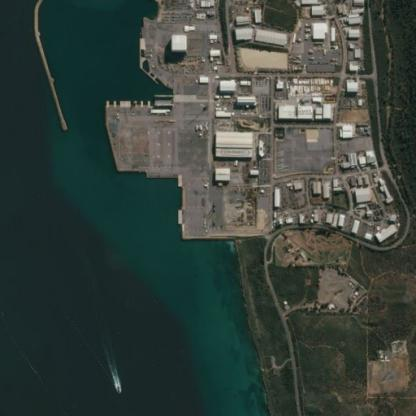ship: (115, 384, 120, 392)
